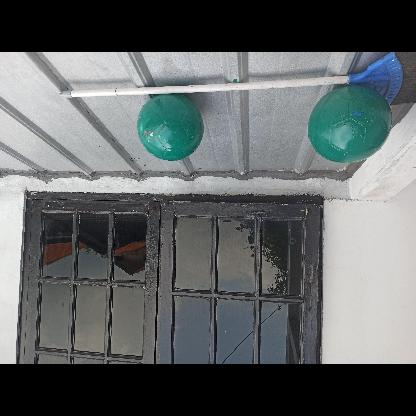green_ball: (308, 82, 392, 166), (134, 95, 202, 164)
